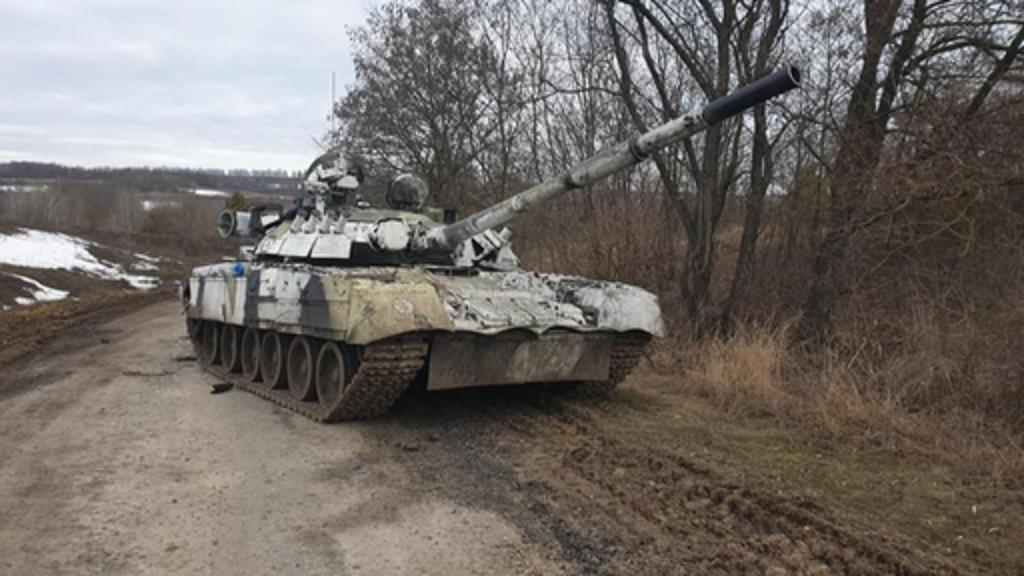TANK: (180, 60, 806, 430)
